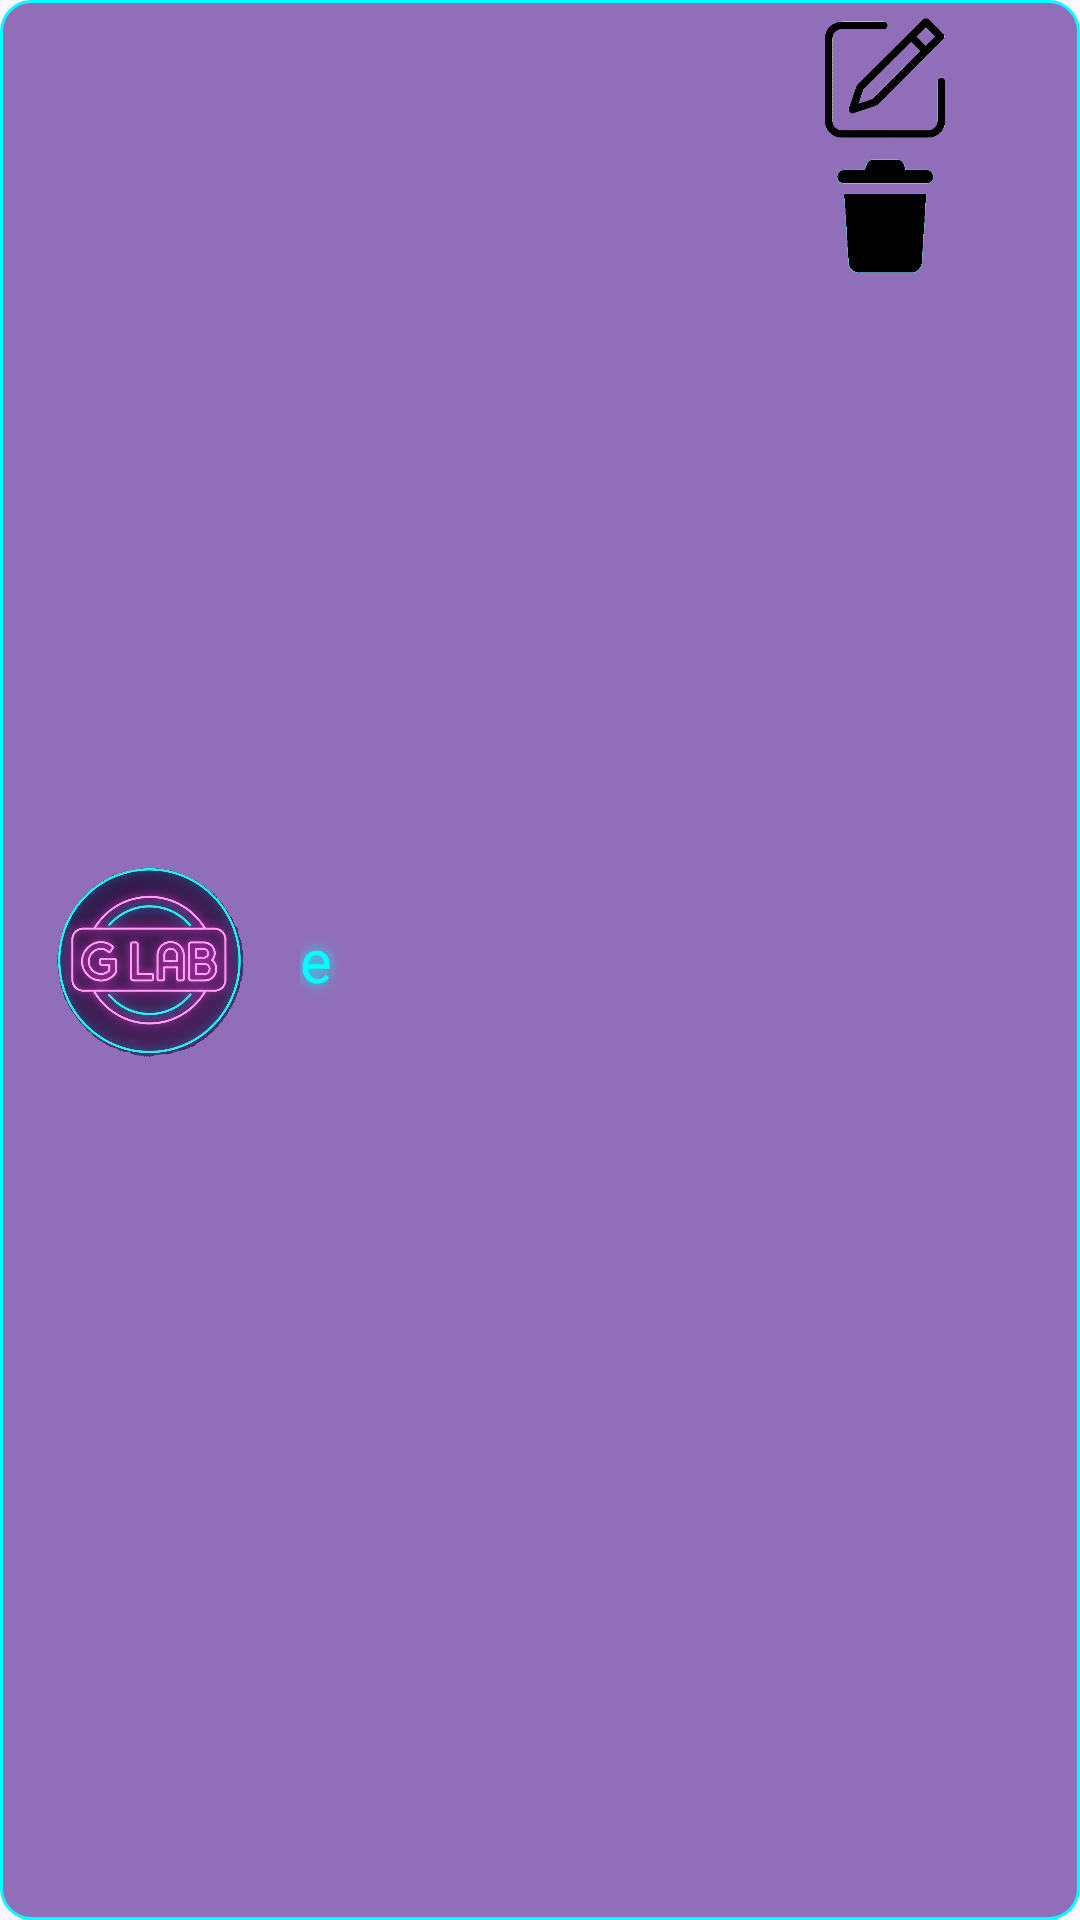

Icon bounding boxes for this 1080×1920 phone screenshot, format rect(x1, y1, x2, y2):
basurita: rect(837, 159, 934, 273)
editar: rect(825, 18, 945, 138)
